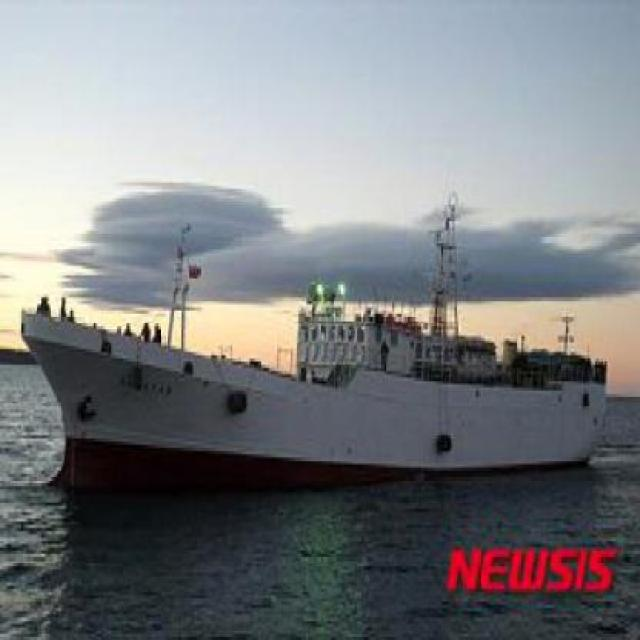fish-b: (4, 184, 626, 507)
